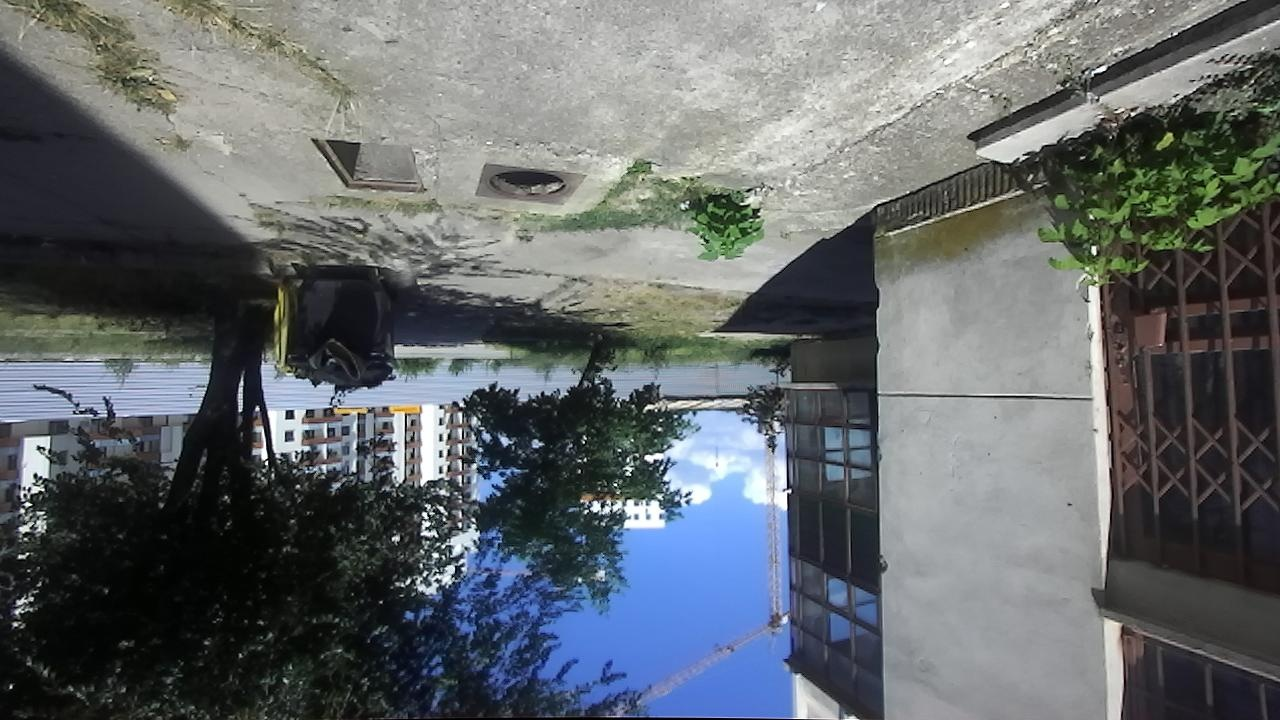drain: (308, 131, 430, 198), (483, 165, 572, 202)
